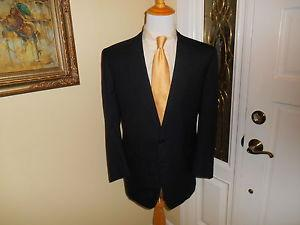F_M_suit jacket: (98, 32, 222, 197)
F_tie: (148, 34, 172, 124)
